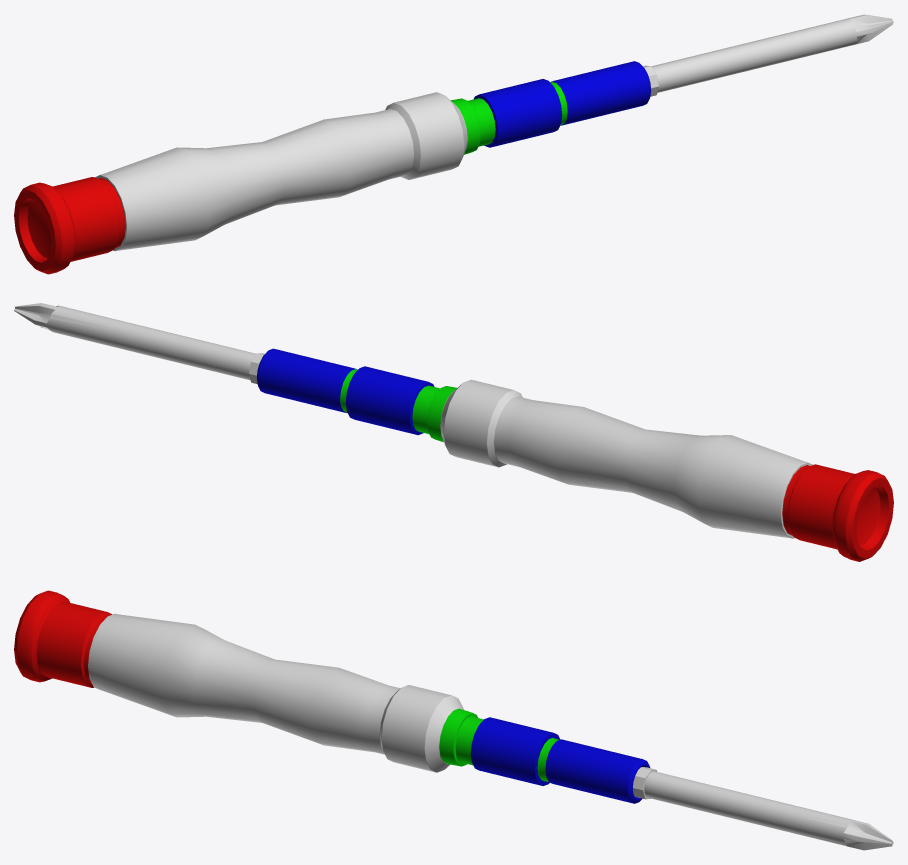
Rendered from SM_Screwdriver.fbx.
The picture shows the model from 3 angles, top to bottom: view 1: azimuth 30°, elevation 25°; view 2: azimuth 150°, elevation 25°; view 3: azimuth 330°, elevation 25°; orthographic projection.
Visible parts, largest first — view 1: ScrewDriverBase, Star; view 2: ScrewDriverBase, Star; view 3: ScrewDriverBase, Star.
Boxes of the visible parts, left/top/right/bottom form: ScrewDriverBase: left=14, top=61, right=651, bottom=274; Star: left=643, top=14, right=893, bottom=96; ScrewDriverBase: left=256, top=348, right=893, bottom=561; Star: left=14, top=303, right=264, bottom=384; ScrewDriverBase: left=14, top=590, right=650, bottom=803; Star: left=633, top=767, right=893, bottom=850.
Bounding box in the file's own units: 33.54 × 3.22 × 3.22.
